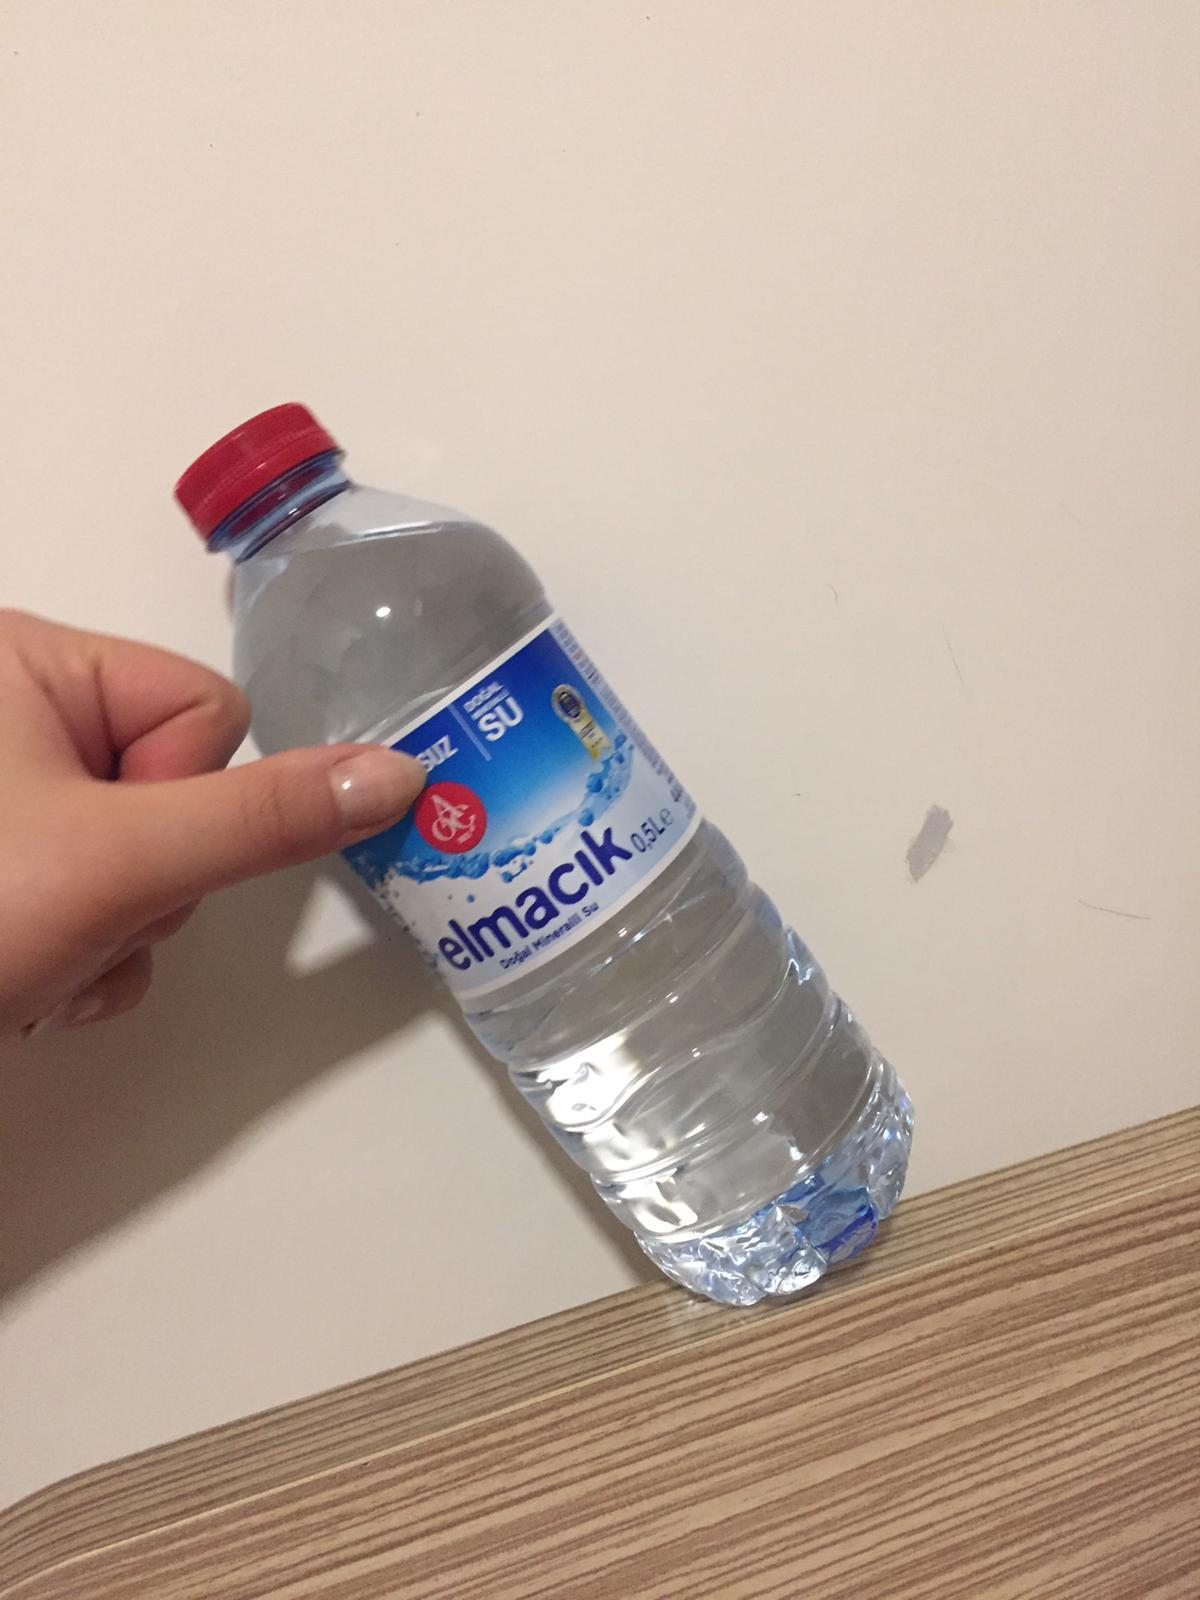bottle: (178, 398, 914, 1310)
